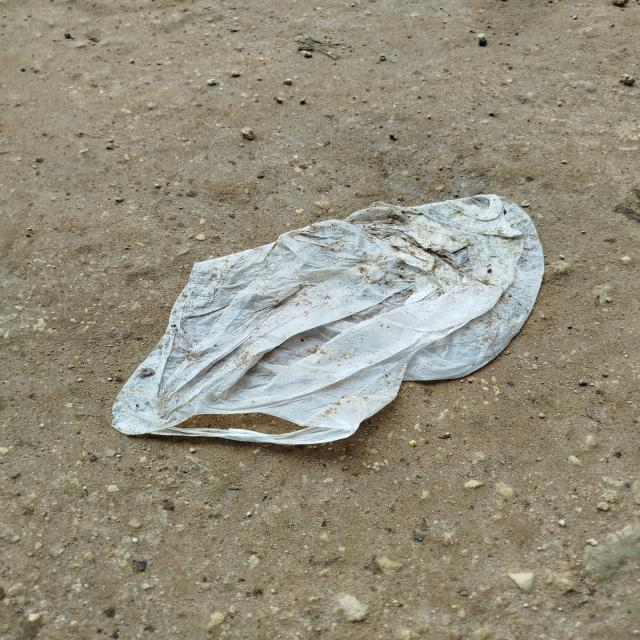residual: (98, 178, 559, 462)
